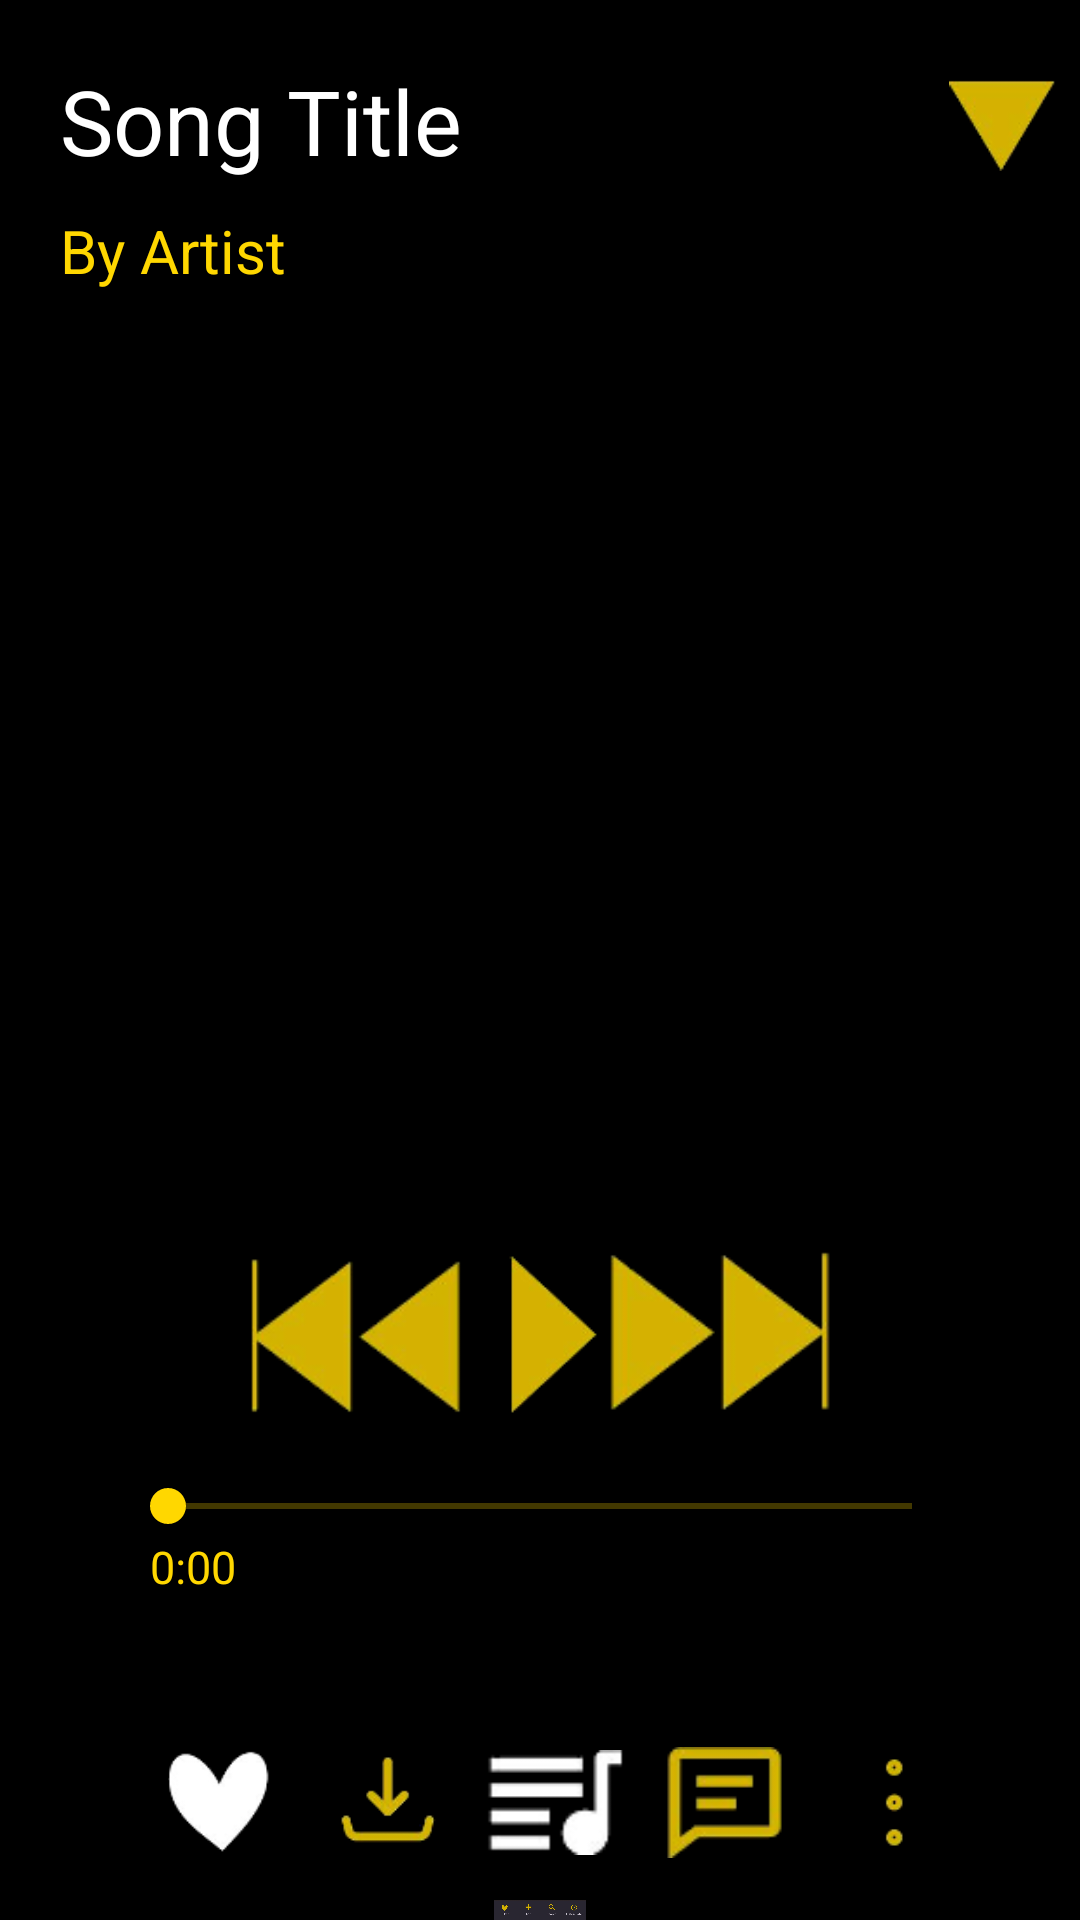

Screen size 1080×1920. Icon name, then its center in pixels as point (x, y):
addplaylist: point (555, 1802)
backsng: point (355, 1335)
down: point (1002, 126)
download: point (387, 1799)
forward: point (720, 1331)
likebutton: point (218, 1802)
moreoptn: point (894, 1802)
msgadd: point (724, 1802)
